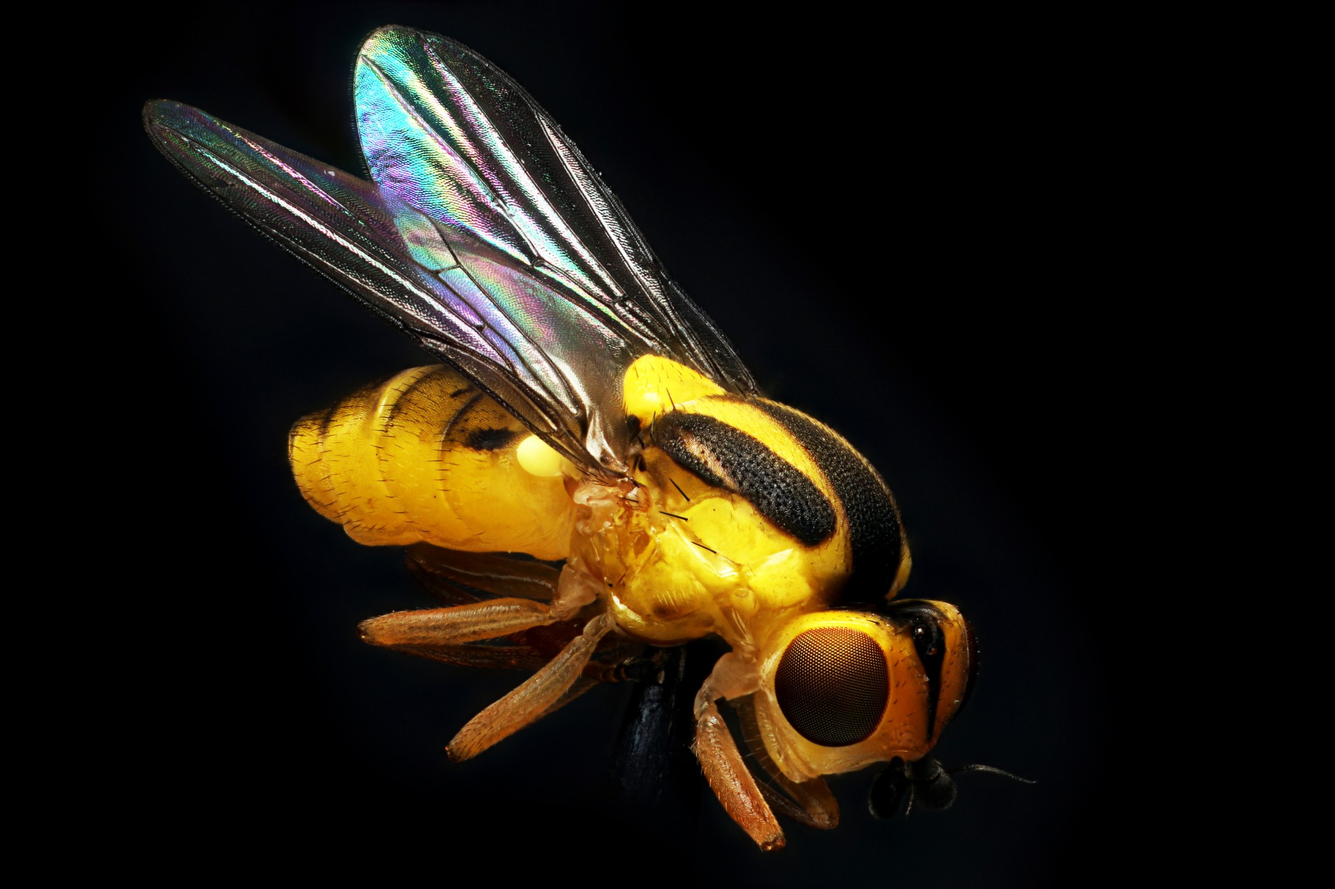Chloropidae: (102, 29, 978, 815)
